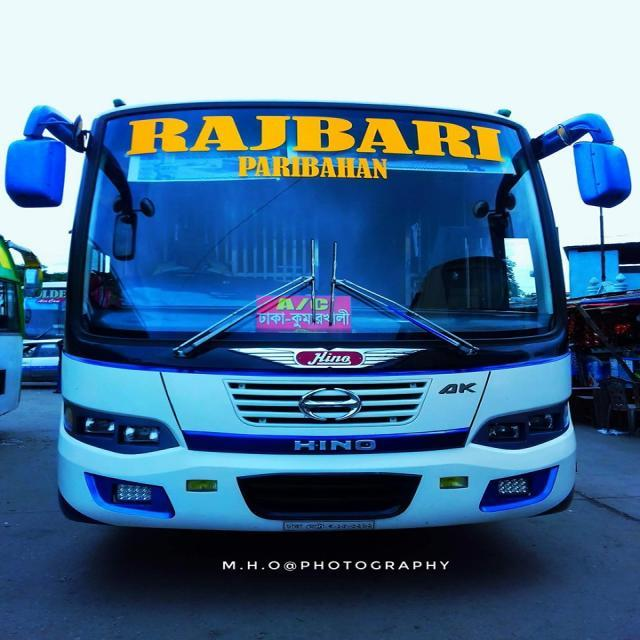bus: (4, 92, 632, 534)
